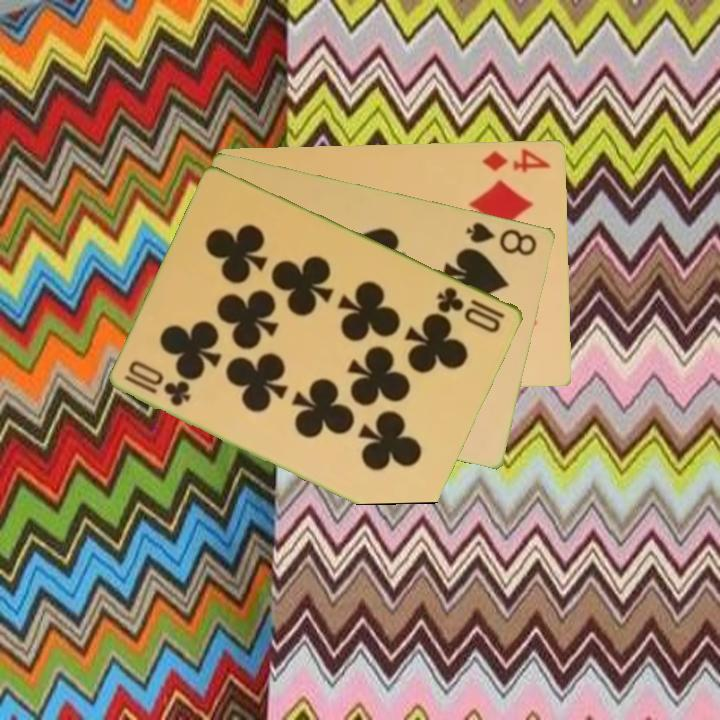10c: (433, 283, 508, 336), (121, 371, 194, 409)
4d: (479, 144, 554, 175)
8s: (463, 218, 541, 259)
